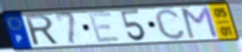5: (118, 9, 147, 43)
7: (53, 11, 77, 47)
C: (152, 7, 188, 41)
E: (87, 10, 123, 44)
M: (180, 5, 220, 40)
R: (22, 13, 61, 47)
